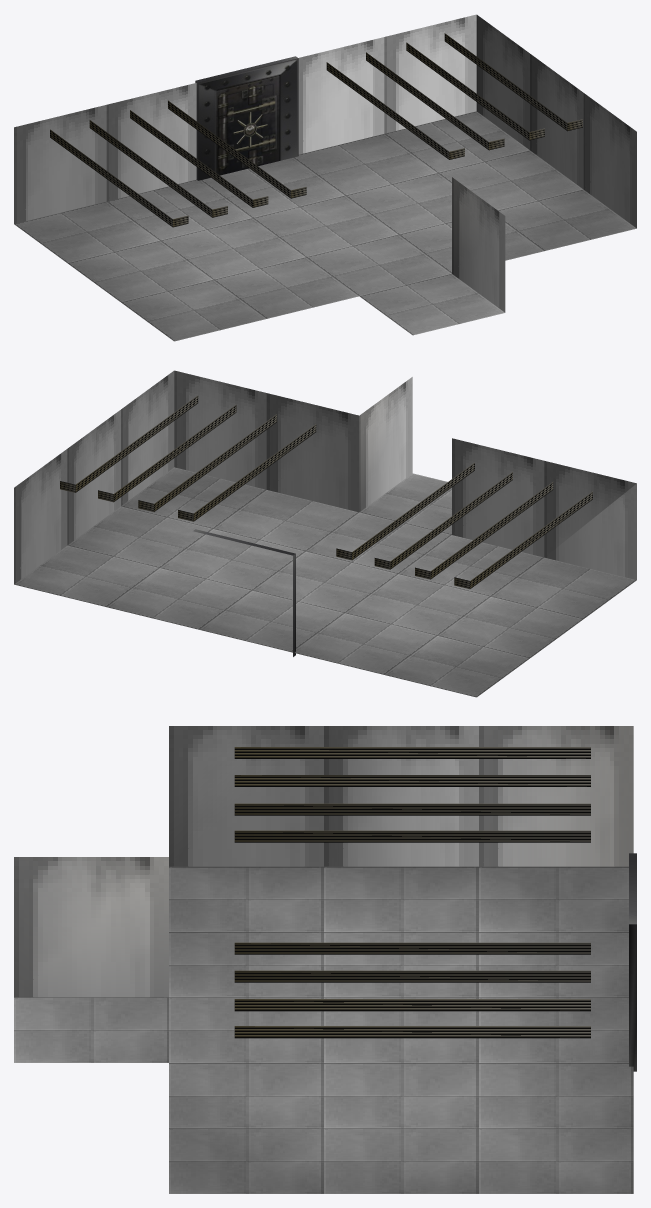
File: room_24.glb
The picture shows the model from 3 angles, top to bottom: view 1: azimuth 30°, elevation 25°; view 2: azimuth 150°, elevation 25°; view 3: azimuth 270°, elevation 25°; orthographic projection. The views are drawn at different scales.
Parts seen in each view (by area): view 1: floor, wall, VaultDoorCover, Lights7, Lights8, Lights1, Lights2, Lights6, Lights9, Lights10, Lights4; view 2: floor, wall, Lights2, Lights7, Lights1, Lights4, Lights6, Lights9, Lights10, Lights8, VaultDoorCover; view 3: floor, wall, Lights1, Lights2, Lights7, Lights8, Lights9, Lights10, Lights4, Lights6, VaultDoorCover.
Boxes of the visible parts, left/top/right/bottom form: floor: left=14, top=111, right=636, bottom=341; wall: left=14, top=14, right=636, bottom=312; VaultDoorCover: left=195, top=56, right=298, bottom=180; Lights7: left=444, top=33, right=582, bottom=131; Lights8: left=406, top=42, right=544, bottom=140; Lights1: left=168, top=100, right=306, bottom=198; Lights2: left=130, top=110, right=268, bottom=207; Lights6: left=50, top=129, right=188, bottom=227; Lights9: left=366, top=52, right=504, bottom=150; Lights10: left=326, top=62, right=464, bottom=159; Lights4: left=89, top=120, right=227, bottom=217; floor: left=14, top=467, right=636, bottom=697; wall: left=14, top=370, right=636, bottom=584; Lights2: left=374, top=472, right=512, bottom=569; Lights7: left=60, top=395, right=198, bottom=492; Lights1: left=336, top=462, right=474, bottom=560; Lights4: left=415, top=482, right=553, bottom=579; Lights6: left=454, top=491, right=592, bottom=589; Lights9: left=138, top=414, right=276, bottom=511; Lights10: left=178, top=424, right=316, bottom=521; Lights8: left=98, top=404, right=236, bottom=502; VaultDoorCover: left=193, top=529, right=295, bottom=656; floor: left=14, top=866, right=633, bottom=1193; wall: left=14, top=726, right=633, bottom=997; Lights1: left=234, top=830, right=590, bottom=842; Lights2: left=234, top=803, right=590, bottom=815; Lights7: left=234, top=1026, right=590, bottom=1038; Lights8: left=234, top=999, right=590, bottom=1011; Lights9: left=234, top=970, right=590, bottom=982; Lights10: left=234, top=942, right=590, bottom=954; Lights4: left=234, top=775, right=590, bottom=786; Lights6: left=234, top=747, right=590, bottom=758; VaultDoorCover: left=629, top=853, right=636, bottom=1071.
Bounding box in the file's own units: 75 × 16.1 × 60.31.
6 materials, 6 textured.
